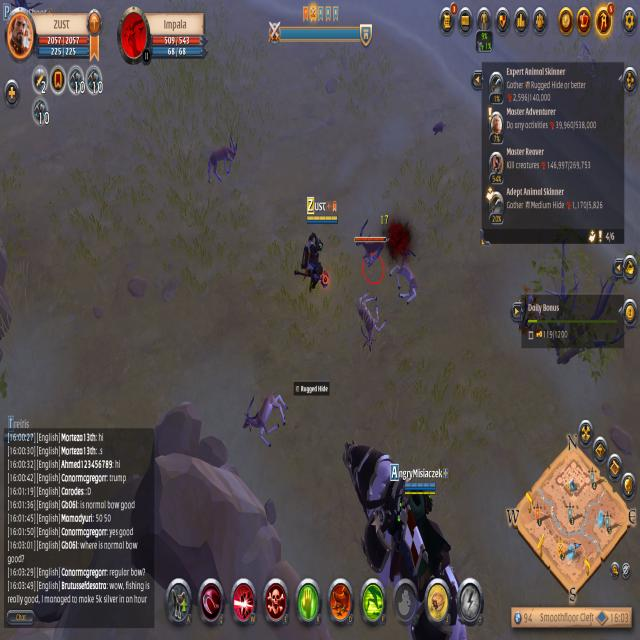deer_alive: (202, 128, 243, 189), (241, 394, 289, 446)
deer_dead: (350, 290, 391, 354), (392, 242, 424, 306)
targeting: (350, 221, 391, 285)
